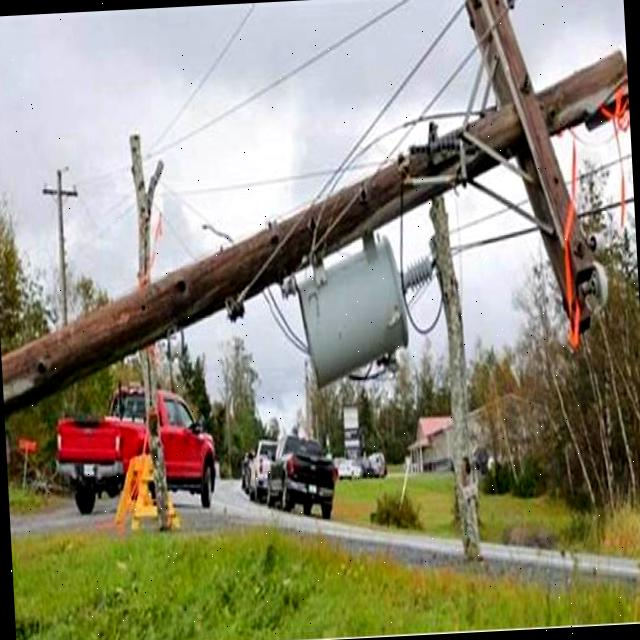Broken Pole: (1, 0, 630, 418)
